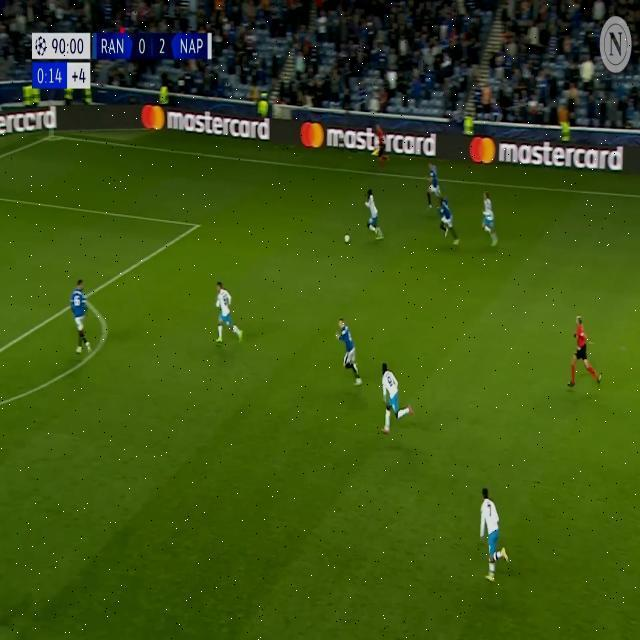ball: (339, 221, 357, 265)
player: (205, 270, 251, 366), (476, 485, 512, 597), (375, 348, 413, 445), (331, 300, 367, 397), (70, 276, 98, 366), (363, 186, 387, 257), (479, 183, 501, 257), (423, 154, 445, 222), (434, 206, 466, 242)
referee: (571, 309, 603, 415), (371, 124, 395, 176)
